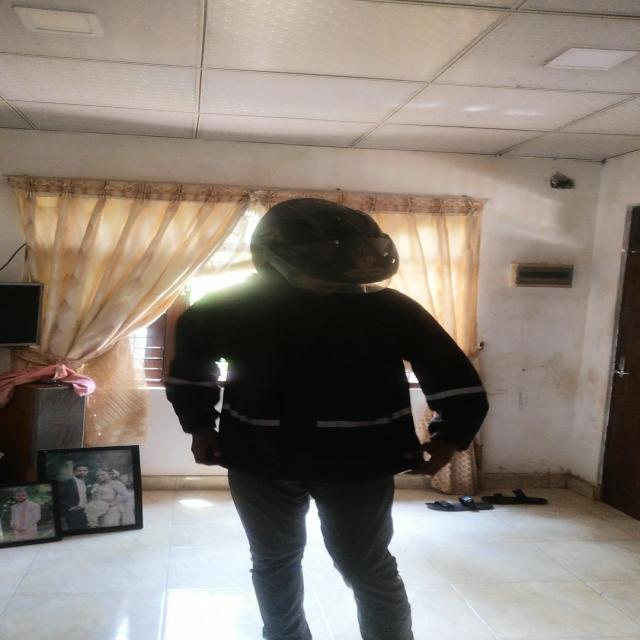Helmet_Wearer: (236, 195, 396, 311)
Jacket_Wearer: (169, 279, 487, 492)
Person: (169, 197, 492, 640)
